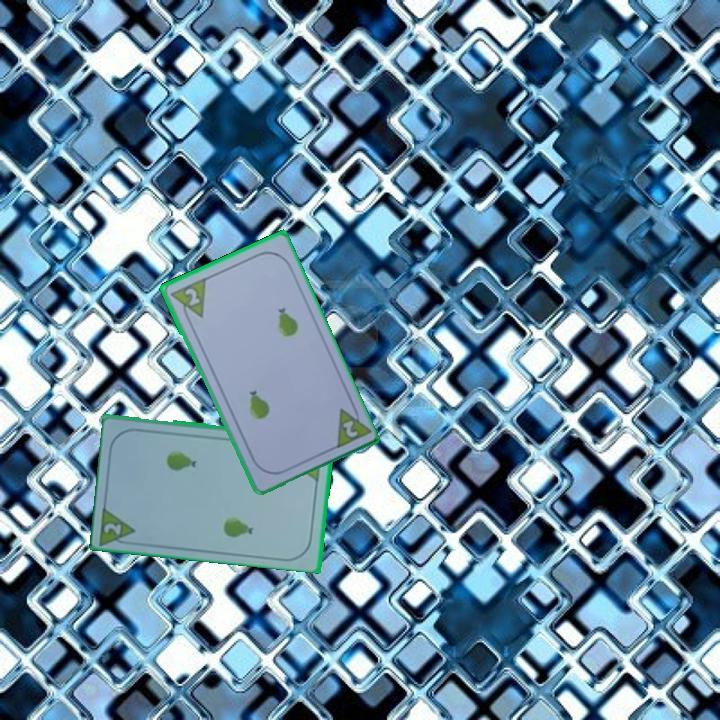2p: (166, 274, 209, 326), (97, 501, 139, 547), (339, 416, 361, 440)
